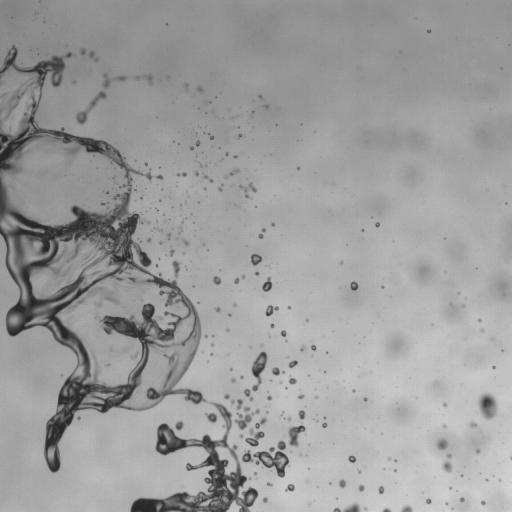droplet: (478, 393, 498, 420), (288, 423, 305, 447), (102, 74, 126, 88), (239, 183, 256, 198), (441, 453, 452, 472), (265, 305, 278, 316), (262, 277, 272, 291), (205, 412, 217, 423), (250, 254, 261, 265), (271, 367, 284, 375), (437, 439, 447, 449), (89, 51, 98, 61), (143, 75, 152, 83), (350, 281, 358, 290), (175, 421, 183, 430), (400, 505, 412, 511), (298, 410, 305, 420), (213, 276, 221, 284), (288, 360, 297, 367), (285, 484, 294, 491), (289, 376, 296, 384), (339, 479, 346, 487), (348, 455, 355, 462), (468, 421, 476, 427), (358, 484, 364, 491), (183, 239, 189, 245), (134, 75, 141, 80), (281, 330, 286, 337), (378, 486, 383, 493), (80, 48, 85, 54), (197, 86, 202, 92), (156, 174, 162, 179), (169, 249, 174, 255), (234, 278, 239, 284), (300, 345, 305, 351), (298, 394, 304, 399), (285, 416, 291, 421), (237, 133, 242, 138), (54, 174, 59, 179), (104, 190, 109, 195), (215, 307, 220, 312), (311, 345, 316, 350), (442, 402, 447, 407), (426, 498, 431, 503), (184, 83, 188, 89), (218, 186, 222, 191), (375, 222, 379, 227), (105, 363, 110, 367), (267, 395, 271, 400), (322, 423, 327, 427), (267, 482, 272, 486), (263, 497, 267, 502), (459, 497, 464, 501), (481, 500, 485, 505), (147, 238, 151, 242), (270, 323, 274, 327), (231, 378, 235, 382), (363, 397, 367, 401), (442, 424, 446, 428), (167, 233, 170, 238), (264, 105, 268, 108), (196, 141, 199, 145), (195, 171, 198, 175), (241, 275, 245, 278), (239, 434, 243, 437), (476, 449, 479, 453), (357, 469, 361, 472), (259, 95, 262, 98), (190, 146, 193, 149), (271, 223, 274, 226), (159, 241, 162, 244), (255, 272, 258, 275), (233, 303, 236, 306), (478, 318, 481, 321), (226, 328, 229, 331), (388, 457, 391, 460), (481, 328, 483, 332), (254, 472, 256, 476), (427, 30, 430, 32), (210, 135, 212, 138), (225, 153, 228, 155), (234, 155, 236, 158), (144, 163, 147, 165), (297, 167, 300, 169), (211, 343, 213, 346), (210, 353, 213, 355), (492, 366, 495, 368), (434, 382, 437, 384), (314, 396, 317, 398), (77, 417, 80, 419), (364, 507, 366, 510), (250, 114, 252, 116), (62, 169, 64, 171), (156, 209, 158, 211), (180, 227, 182, 229), (340, 261, 342, 263), (462, 304, 464, 306), (228, 314, 230, 316), (204, 335, 206, 337), (240, 376, 242, 378), (449, 487, 451, 489)
ligament: (0, 45, 286, 511), (243, 351, 267, 400), (76, 91, 106, 124), (245, 417, 266, 447), (333, 502, 361, 511), (109, 346, 128, 356), (225, 169, 239, 178), (37, 171, 46, 179), (202, 175, 212, 182), (258, 228, 265, 238), (177, 172, 186, 177), (152, 227, 160, 231), (382, 508, 391, 511)
